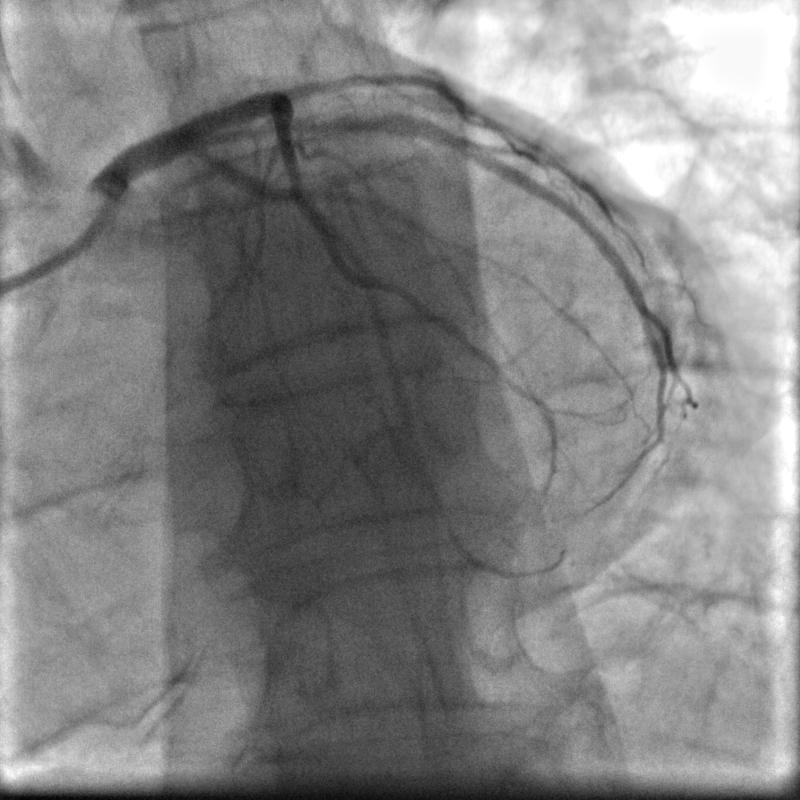Stenosis: (271, 112, 294, 154)
